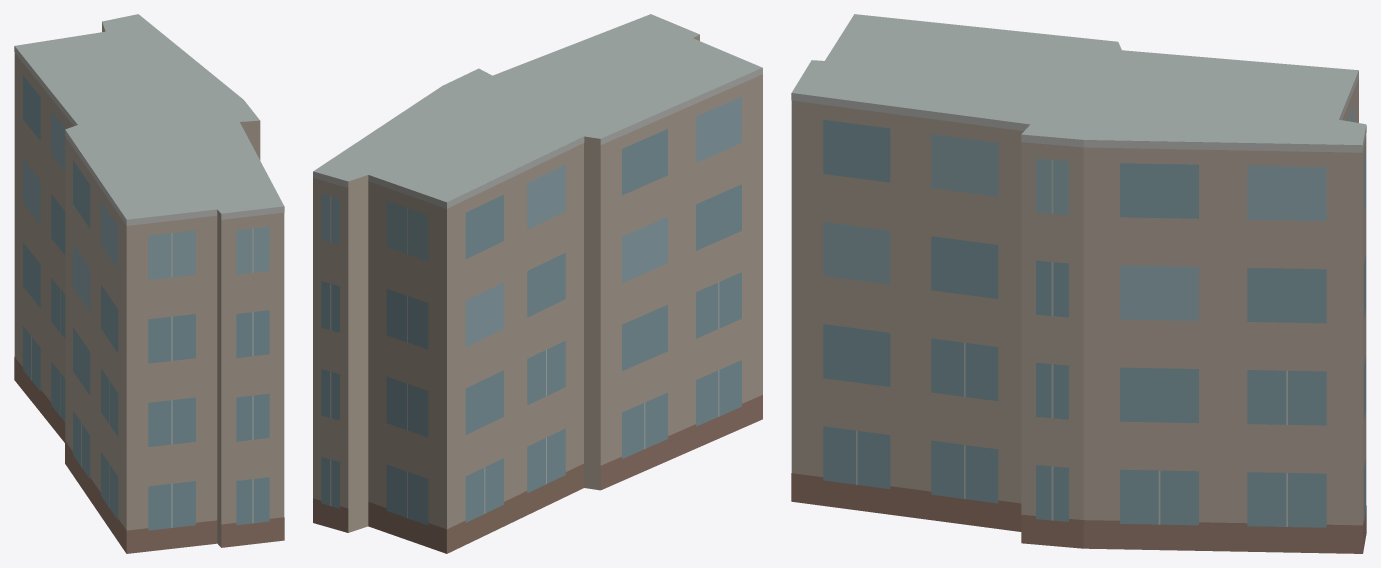
The model's file is survey-upis-32990118.glb.
3 renders of one model, left to right at view 1: azimuth 30°, elevation 25°; view 2: azimuth 150°, elevation 25°; view 3: azimuth 270°, elevation 25°, orthographic. The views are drawn at different scales.
Parts seen in each view (by area): view 1: survey-upis-32990118.tmp; view 2: survey-upis-32990118.tmp; view 3: survey-upis-32990118.tmp.
Boxes of the visible parts, left/top/right/bottom form: survey-upis-32990118.tmp: left=14, top=14, right=284, bottom=553; survey-upis-32990118.tmp: left=313, top=14, right=762, bottom=553; survey-upis-32990118.tmp: left=791, top=14, right=1366, bottom=553.
Bounding box in the file's own units: 9.09 × 13.2 × 16.84.
